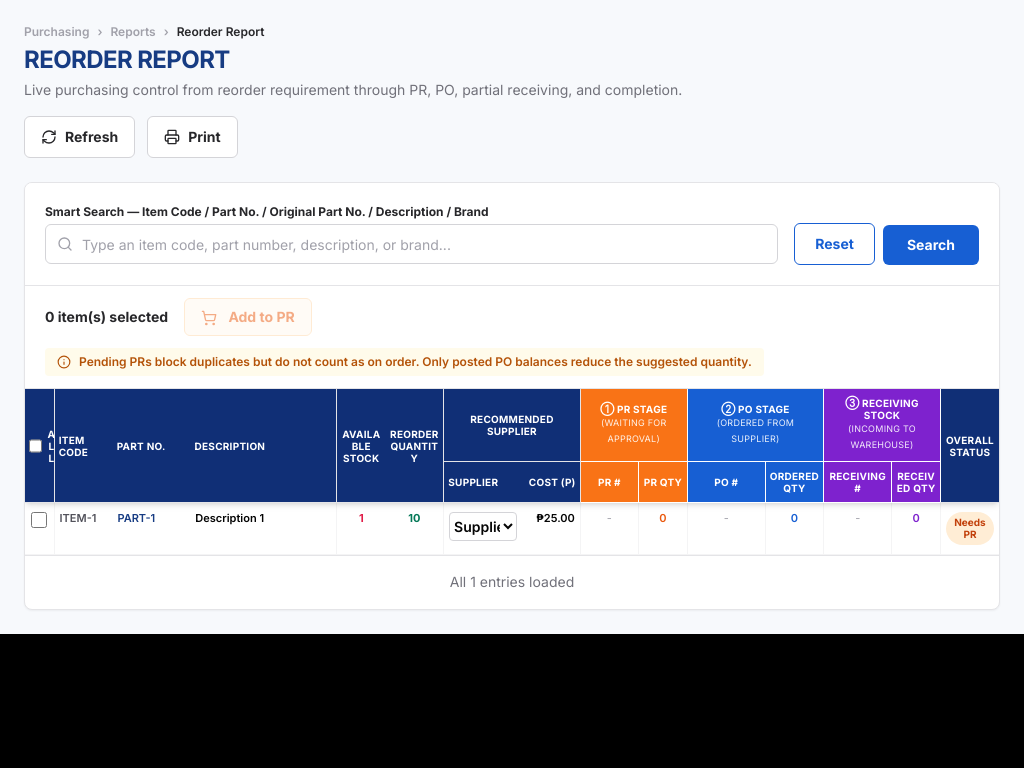
Test case: ReorderReport automatic loading › force refreshes the loaded report pages from the toolbar
Expected: the text "ITEM-1" is shown, [54,502,113,554]
What coordinates should you click on to do the following:
click the button "Refresh"
I would click on:
 (80, 137)
Its box is [24,116,135,158].
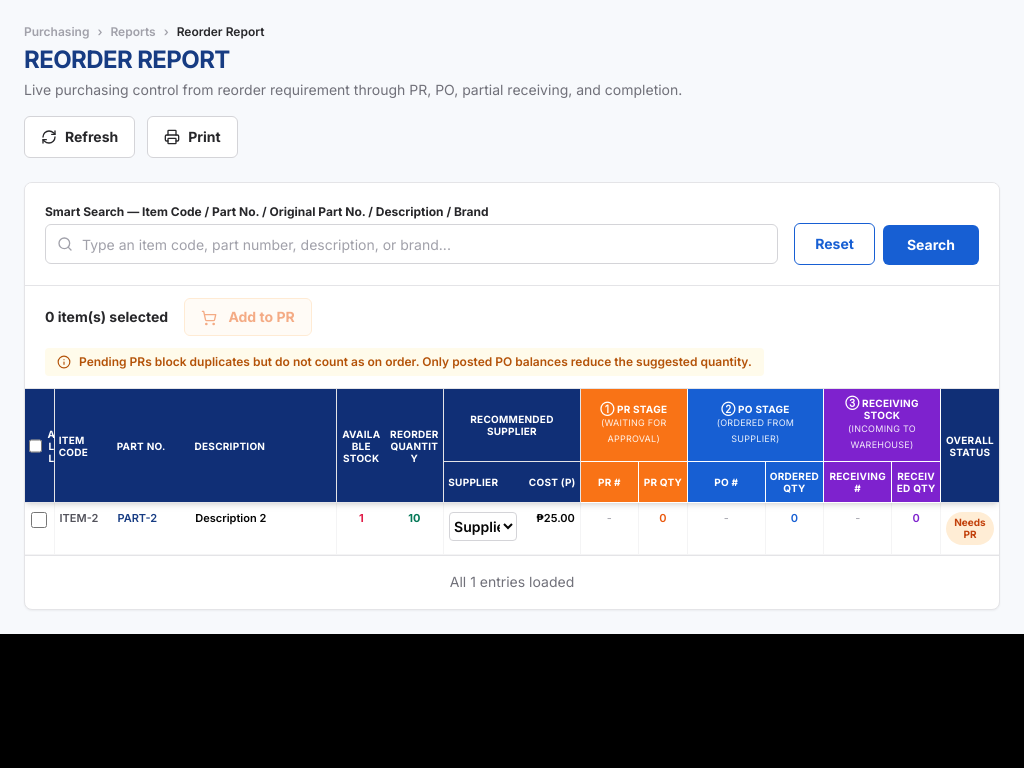
Expected: the text "ITEM-2" is shown, [54,502,113,554]
Expected: the text "ITEM-1" is not shown
